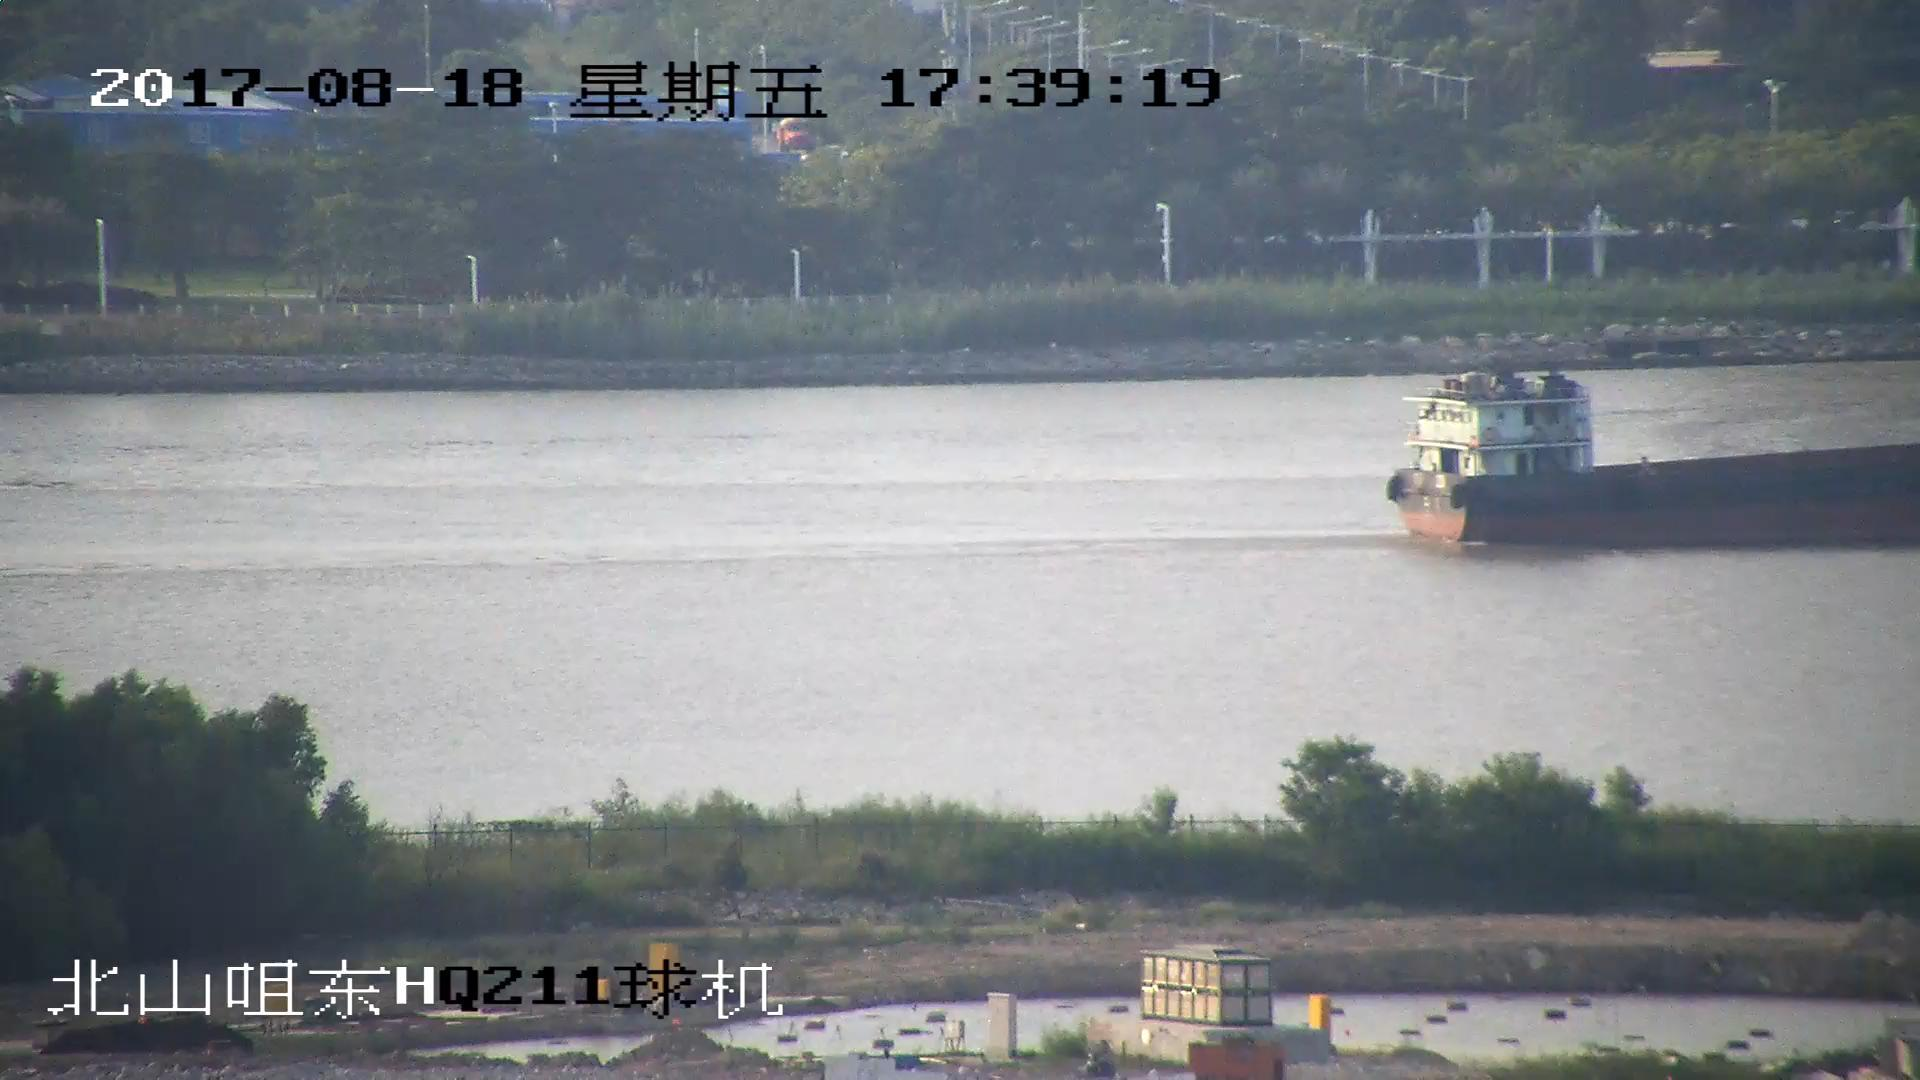Ship: (1390, 375, 1920, 555)
